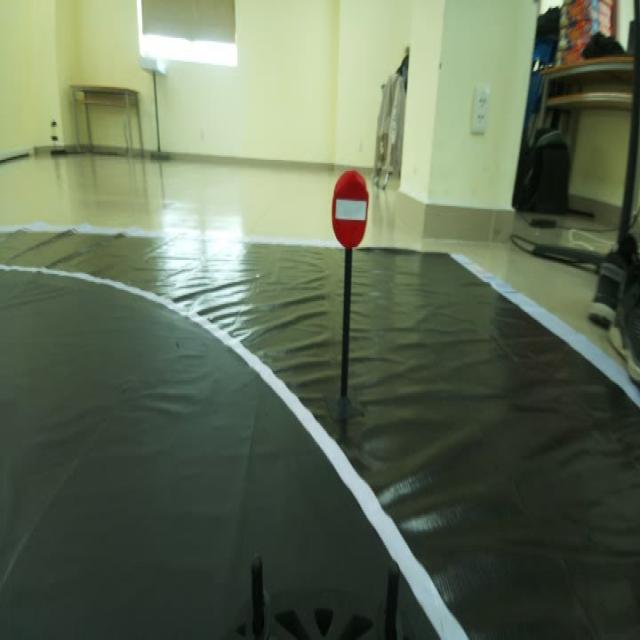no_entry: (327, 166, 373, 260)
